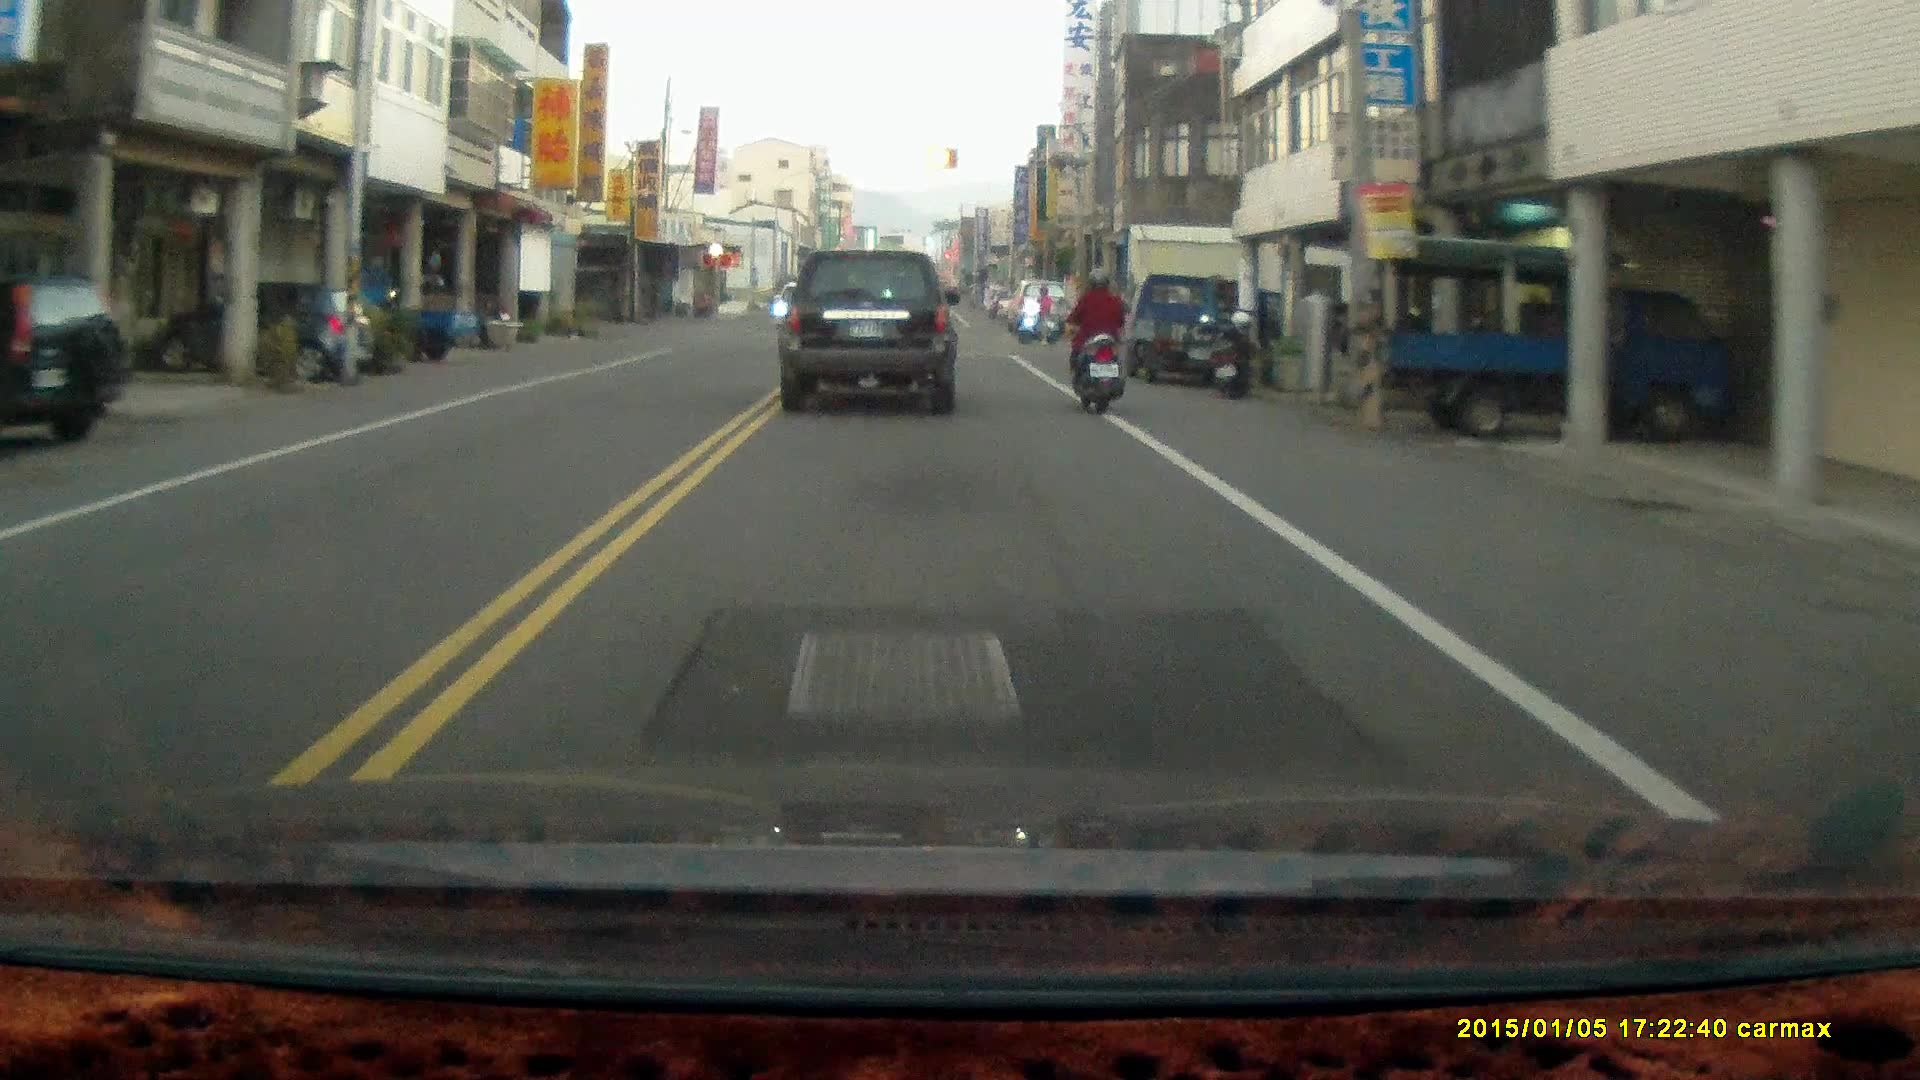rider: (1070, 264, 1126, 414), (1013, 287, 1056, 346)
vehicle: (1365, 239, 1731, 440), (778, 251, 960, 420), (1, 276, 136, 463), (145, 280, 375, 380), (1118, 269, 1260, 387)
